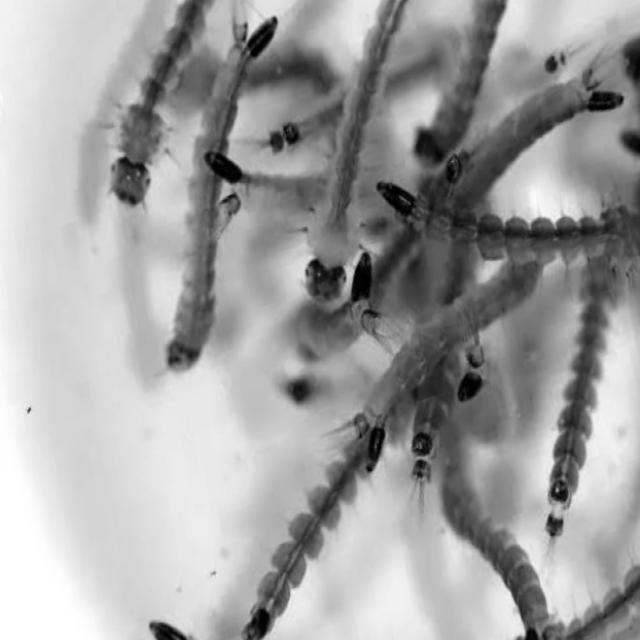larvas: (158, 10, 282, 378), (340, 262, 543, 474), (288, 0, 418, 313), (89, 0, 227, 212), (233, 433, 368, 640), (379, 179, 640, 275), (458, 52, 627, 195), (409, 0, 513, 169), (544, 282, 612, 536), (446, 463, 540, 640), (214, 146, 318, 243), (548, 572, 640, 640), (409, 369, 456, 479), (266, 88, 336, 158), (278, 303, 351, 362), (274, 375, 365, 408), (283, 41, 335, 95), (423, 158, 471, 210)
